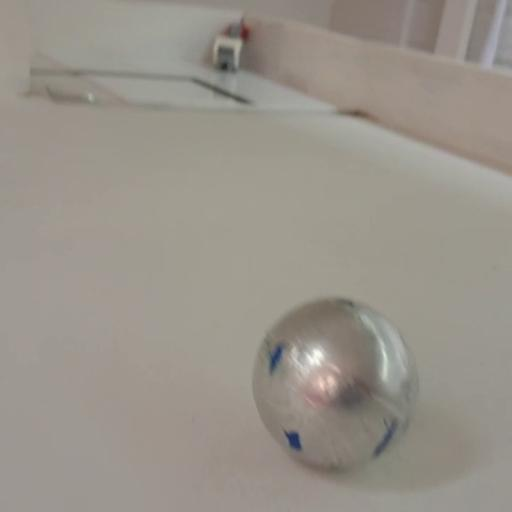alive: (248, 291, 423, 478)
